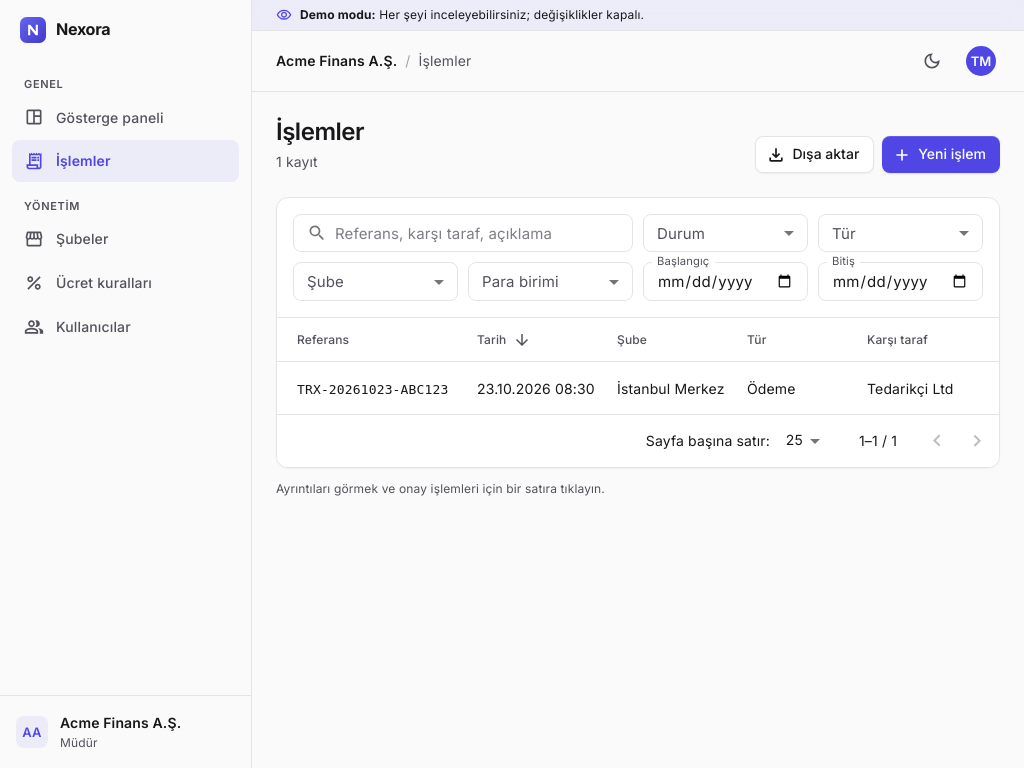
Test: demo mode › tells a demo visitor that changes are off, and explains a refused change in Turkish
This screenshot has width=1024, height=768.
Check: the message shows "Demo modu", box [300,7,376,22]
Click the text "TRX-20261023-ABC123": (373, 390) [297,382,448,397]
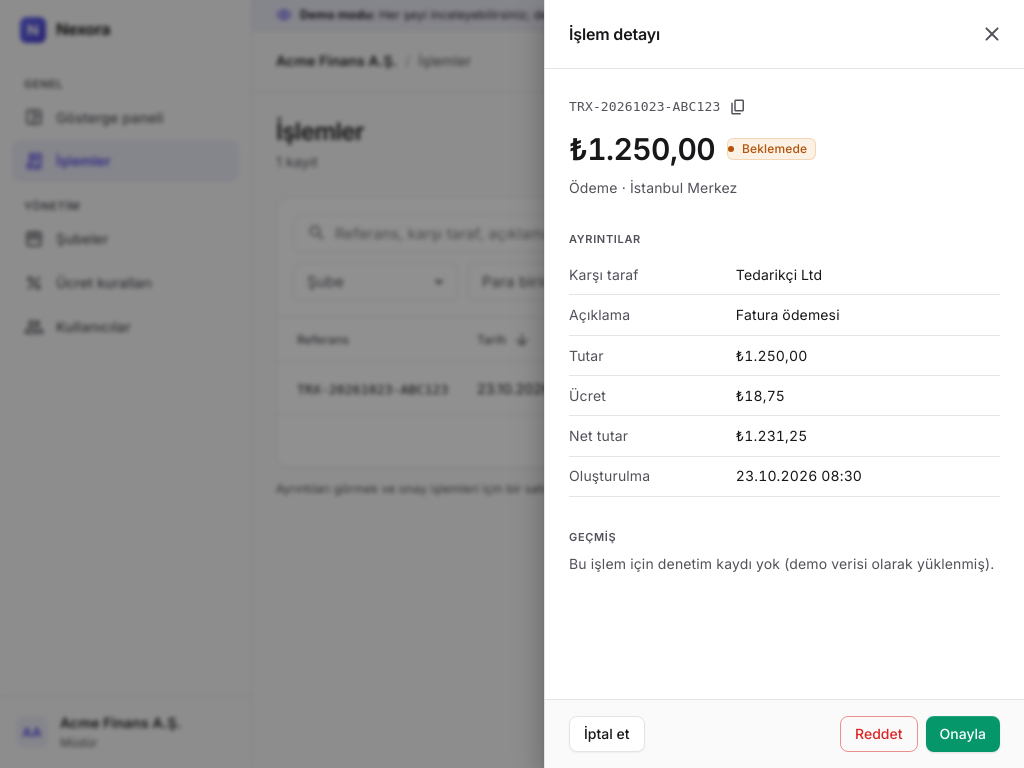
Click the button "Onayla": (963, 734) [926,716,1000,752]
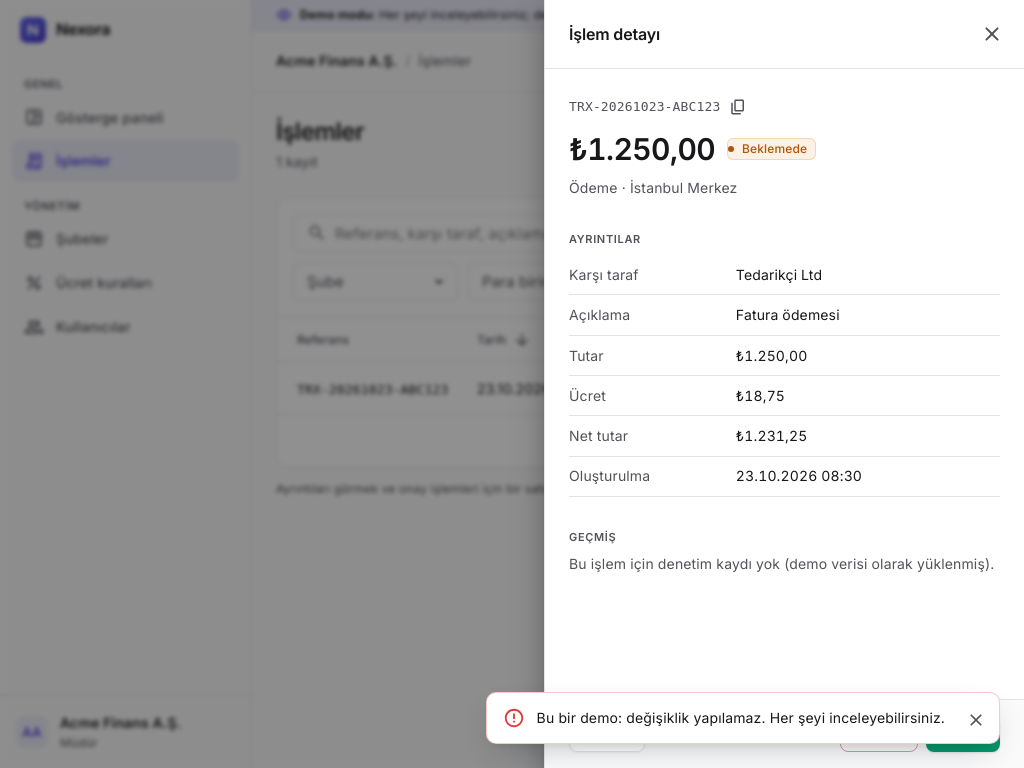
Check: the text "Bu bir demo: değişiklik yapılamaz" is shown, box [537,709,945,726]
